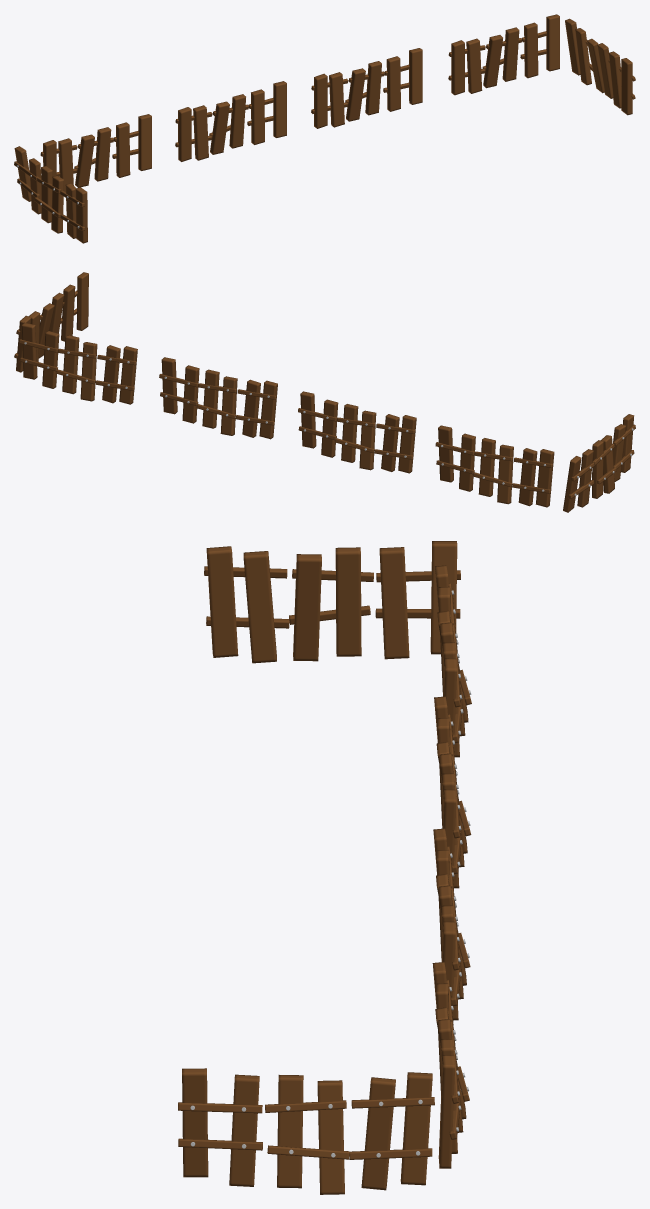
Rendered from fence02.fbx.
The picture shows the model from 3 angles, top to bottom: view 1: azimuth 30°, elevation 25°; view 2: azimuth 150°, elevation 25°; view 3: azimuth 270°, elevation 25°; orthographic projection. The views are drawn at different scales.
Visible parts, largest first — view 1: gym_fence02_1, gym_fence02_3, gym_fence02_4, gym_fence02_5, gym_fence02_6, gym_fence02_2; view 2: gym_fence02_5, gym_fence02_3, gym_fence02_1, gym_fence02_4, gym_fence02_6, gym_fence02_2; view 3: gym_fence02_2, gym_fence02_6, gym_fence02_1, gym_fence02_3, gym_fence02_4, gym_fence02_5.
Part boxes in pixels (x1,y1,x2,y2): gym_fence02_1: (448, 14, 559, 95); gym_fence02_3: (311, 48, 422, 128); gym_fence02_4: (175, 81, 286, 161); gym_fence02_5: (40, 114, 151, 191); gym_fence02_6: (14, 146, 87, 243); gym_fence02_2: (565, 18, 635, 115); gym_fence02_5: (435, 425, 554, 507); gym_fence02_3: (159, 357, 277, 439); gym_fence02_1: (19, 322, 137, 404); gym_fence02_4: (298, 391, 416, 473); gym_fence02_6: (563, 414, 635, 512); gym_fence02_2: (14, 272, 88, 372); gym_fence02_2: (178, 1068, 434, 1194); gym_fence02_6: (204, 541, 460, 663); gym_fence02_1: (432, 962, 469, 1168); gym_fence02_3: (433, 828, 470, 1020); gym_fence02_4: (434, 696, 471, 888); gym_fence02_5: (435, 565, 471, 757).
Size of the model in its own units: 109 by 10.98 by 24.81.
